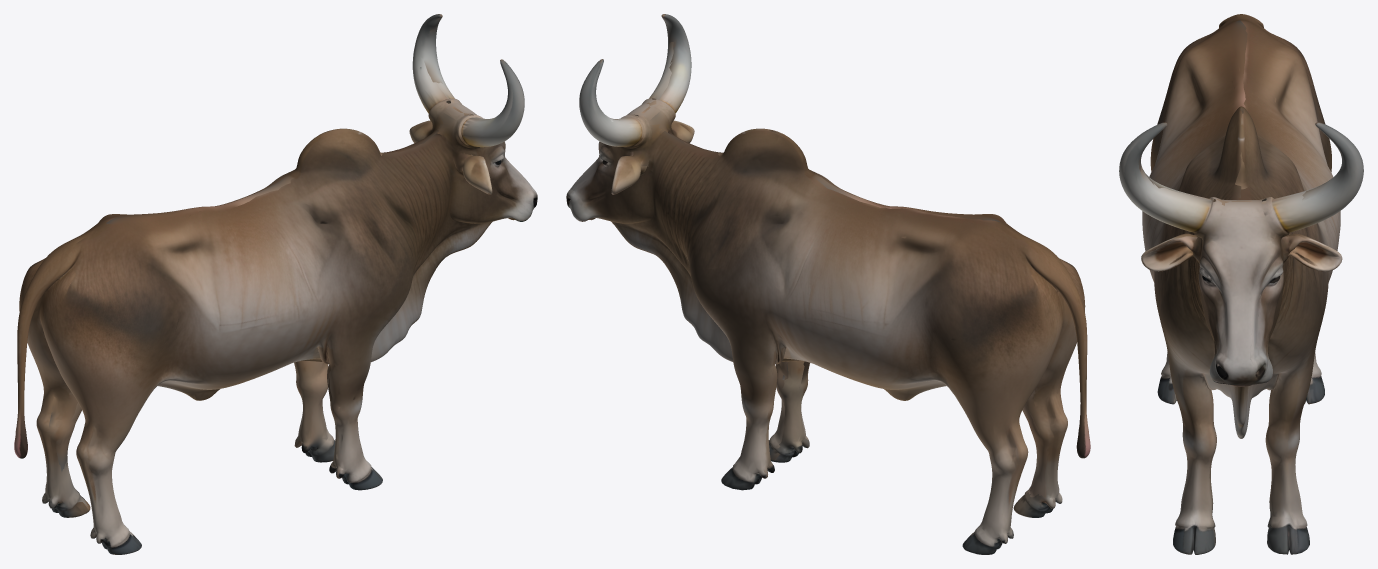
The model's file is Cow V2.fbx.
3 views of the same model, side by side, from view 1: azimuth 30°, elevation 25°; view 2: azimuth 150°, elevation 25°; view 3: azimuth 270°, elevation 25° (orthographic). The views are drawn at different scales.
Visible parts, largest first — view 1: texture_pbr_v128; view 2: texture_pbr_v128; view 3: texture_pbr_v128.
Boxes of the visible parts, x1,y1,x2,y2 form: texture_pbr_v128: (14, 14, 537, 554); texture_pbr_v128: (566, 14, 1090, 554); texture_pbr_v128: (1119, 14, 1363, 554).
Size of the model in its own units: 111 by 81.76 by 36.32.
Materials: 1 (1 with a texture image).
